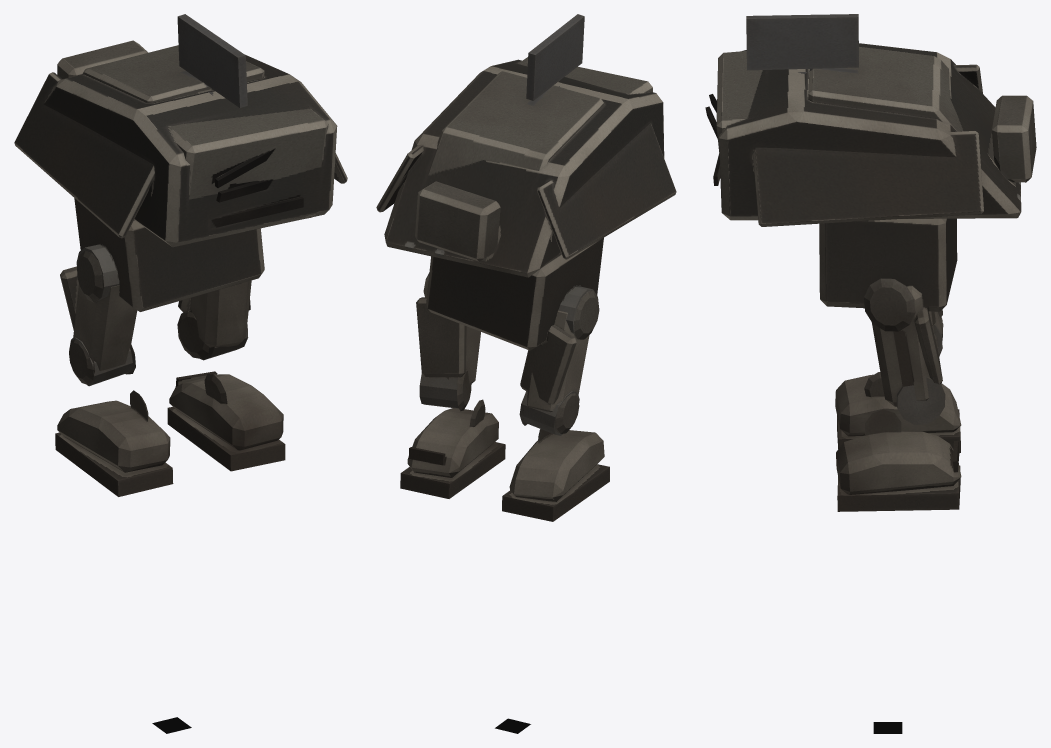
The model's file is ord_informant_wreck.fbx.
3 renders of one model, left to right at view 1: azimuth 30°, elevation 25°; view 2: azimuth 150°, elevation 25°; view 3: azimuth 270°, elevation 25°, orthographic. The views are drawn at different scales.
Parts seen in each view (by area): view 1: torso_bar, base_bar, footL_bar, footR_bar, thighL_bar, thighR_bar; view 2: torso_bar, base_bar, thighL_bar, footL_bar, footR_bar, thighR_bar; view 3: torso_bar, base_bar, footR_bar, thighR_bar, footL_bar, shinR_bar.
Part boxes in pixels (x1=…): torso_bar: x1=14, y1=14, x2=347, y2=247; base_bar: x1=74, y1=198, x2=264, y2=311; footL_bar: x1=55, y1=400, x2=173, y2=496; footR_bar: x1=167, y1=371, x2=285, y2=471; thighL_bar: x1=60, y1=244, x2=137, y2=386; thighR_bar: x1=177, y1=280, x2=251, y2=360; torso_bar: x1=376, y1=14, x2=676, y2=277; base_bar: x1=426, y1=238, x2=603, y2=350; thighL_bar: x1=519, y1=286, x2=599, y2=435; footL_bar: x1=502, y1=430, x2=609, y2=521; footR_bar: x1=400, y1=408, x2=505, y2=498; thighR_bar: x1=416, y1=273, x2=480, y2=411; torso_bar: x1=705, y1=14, x2=1036, y2=226; base_bar: x1=819, y1=218, x2=957, y2=311; footR_bar: x1=836, y1=431, x2=961, y2=511; thighR_bar: x1=864, y1=278, x2=945, y2=424; footL_bar: x1=835, y1=374, x2=961, y2=453; shinR_bar: x1=865, y1=409, x2=901, y2=435.
Bounding box in the file's own units: 179 × 545 × 230.
Materials: 2 (2 with a texture image).
